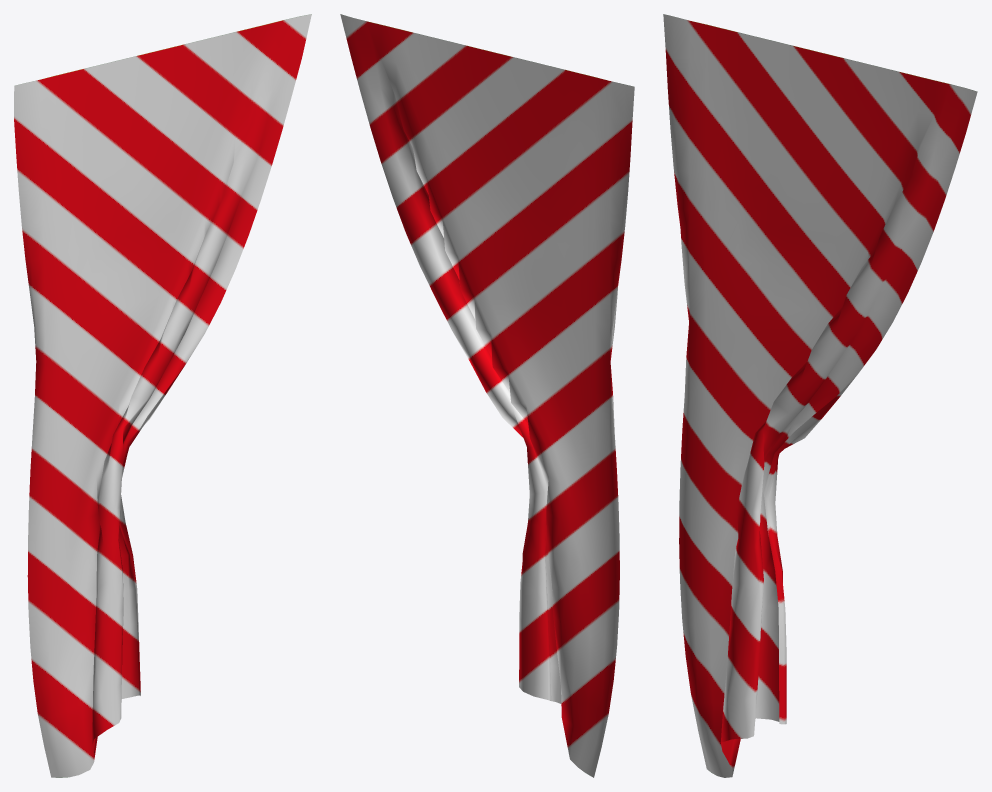
The model's file is CurtainLeftCandyCane.glb.
3 views of the same model, side by side, from view 1: azimuth 30°, elevation 25°; view 2: azimuth 150°, elevation 25°; view 3: azimuth 330°, elevation 25° (orthographic). The views are drawn at different scales.
Parts seen in each view (by area): view 1: CurtainLeftCandyCane; view 2: CurtainLeftCandyCane; view 3: CurtainLeftCandyCane.
Part boxes in pixels (<box>): CurtainLeftCandyCane: <box>14,14,311,777</box>; CurtainLeftCandyCane: <box>340,14,634,777</box>; CurtainLeftCandyCane: <box>663,14,977,777</box>.
Bounding box in the file's own units: 0.874 × 1.98 × 0.0844.
Materials: 1 (1 with a texture image).
